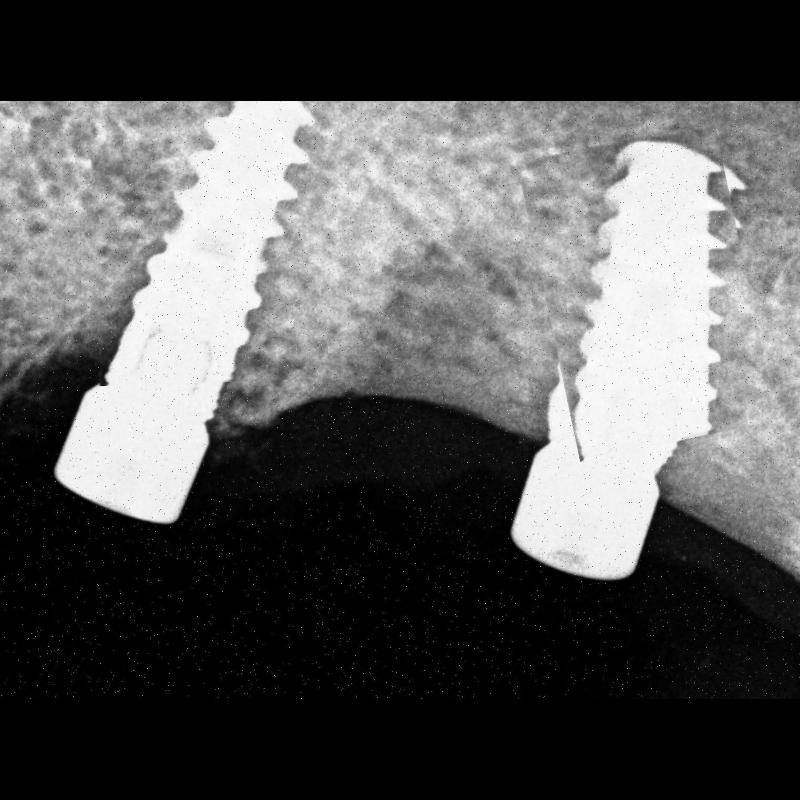NORIS: (532, 130, 762, 454), (92, 102, 326, 384)
